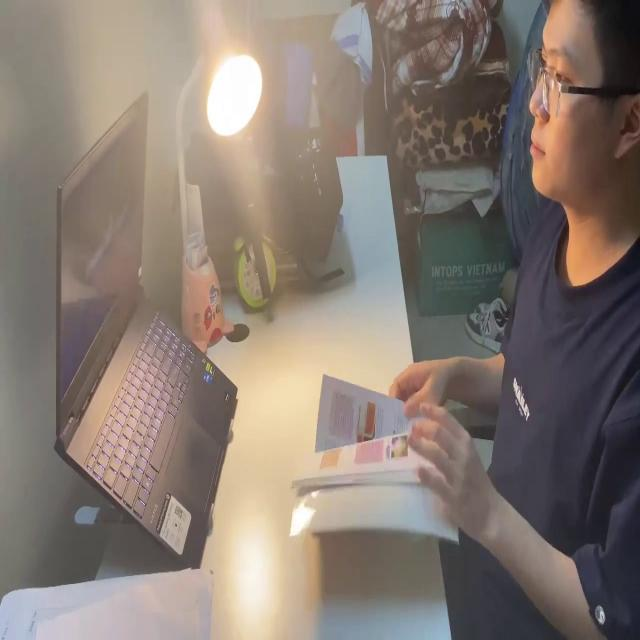book: (291, 362, 472, 562), (0, 572, 206, 640)
laptop: (54, 88, 239, 559)
student: (376, 0, 640, 640)
